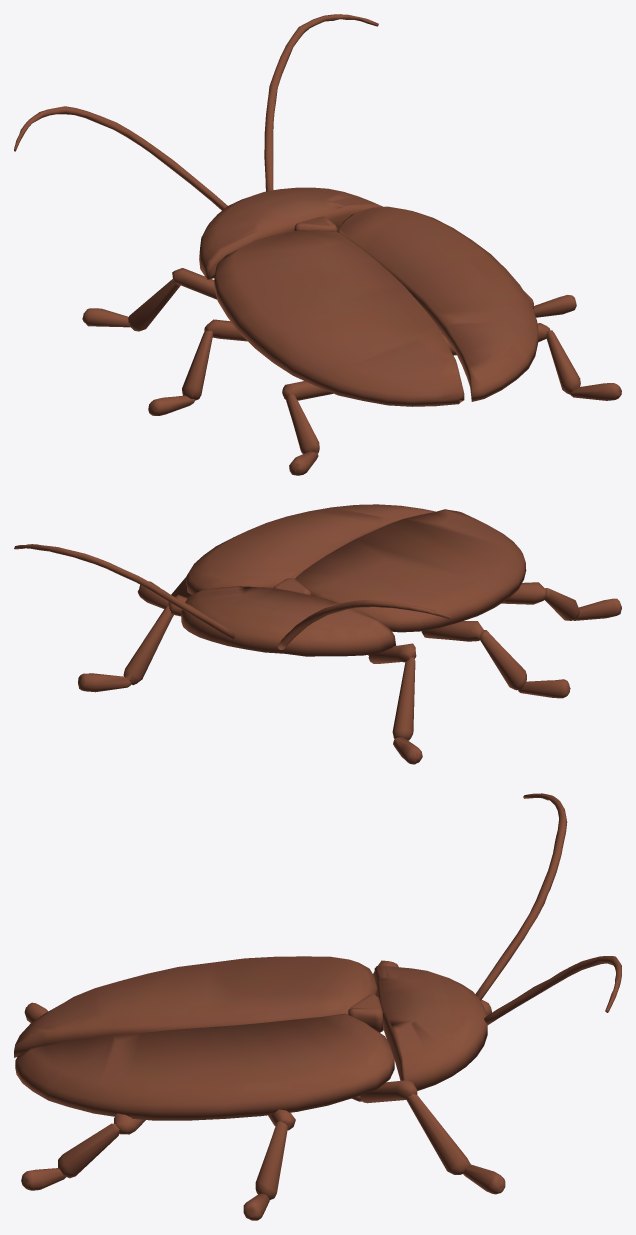
Rendered from barata_urbana.glb.
3 renders of one model, top to bottom at view 1: azimuth 30°, elevation 25°; view 2: azimuth 150°, elevation 25°; view 3: azimuth 270°, elevation 25°, orthographic. The views are drawn at different scales.
Parts seen in each view (by area): view 1: Curved Antenna Ladybug; view 2: Curved Antenna Ladybug; view 3: Curved Antenna Ladybug.
Part boxes in pixels (box(x1,y1,x2,y2)): Curved Antenna Ladybug: box(14, 14, 621, 475); Curved Antenna Ladybug: box(14, 504, 621, 764); Curved Antenna Ladybug: box(14, 793, 621, 1220).
Size of the model in its own units: 0.9082 by 0.3848 by 0.998.
1 material, 1 textured.
